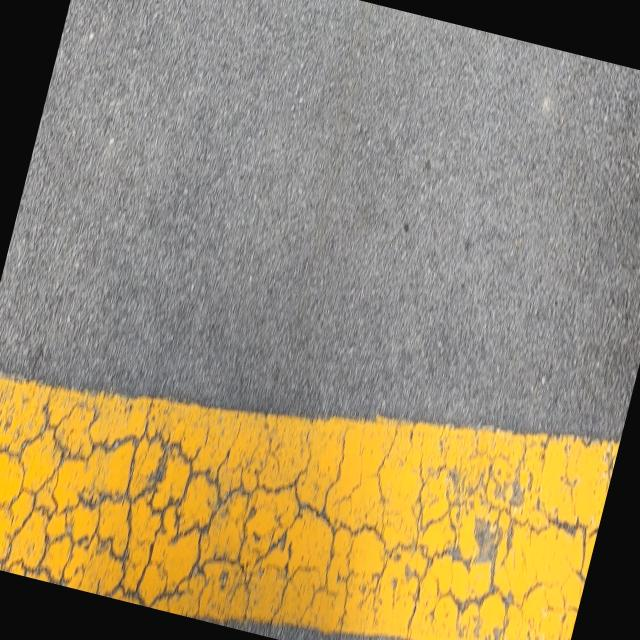Retak-Buaya: (0, 375, 592, 640)
